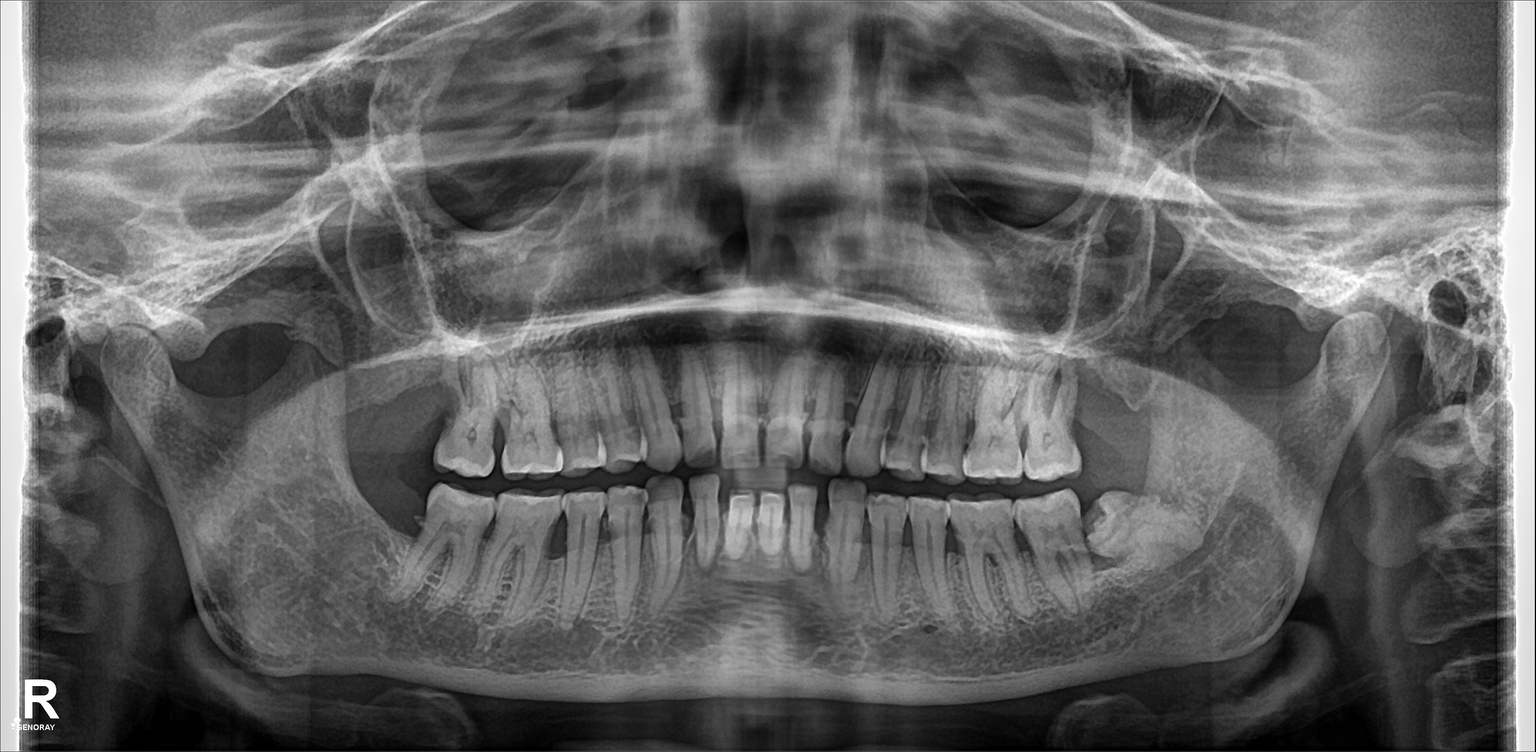Impacted Third Molar: (1088, 491, 1199, 562)
Missing Tooth: (352, 475, 411, 582), (1086, 357, 1138, 465), (391, 365, 442, 454), (341, 367, 384, 439)
